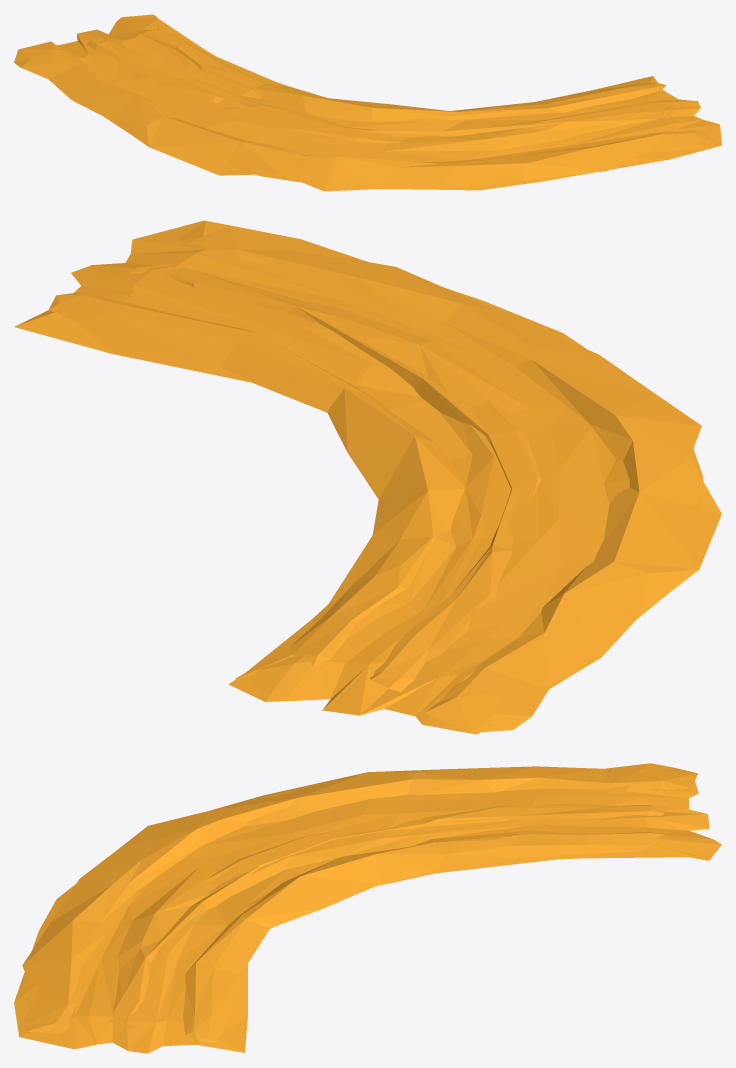
Rendered from SM_Road_Dirt_B_Turn_20x20m.fbx.
3 views of the same model, one above another, from view 1: azimuth 30°, elevation 25°; view 2: azimuth 150°, elevation 25°; view 3: azimuth 270°, elevation 25° (orthographic). The views are drawn at different scales.
Visible parts, largest first — view 1: road-dirt-b-turn-20x20m; view 2: road-dirt-b-turn-20x20m; view 3: road-dirt-b-turn-20x20m.
Part boxes in pixels (x1,y1,x2,y2): road-dirt-b-turn-20x20m: (14,14,721,191); road-dirt-b-turn-20x20m: (14,220,721,734); road-dirt-b-turn-20x20m: (14,763,721,1053).
Bounding box in the file's own units: 20.83 × 0.7605 × 21.59.
